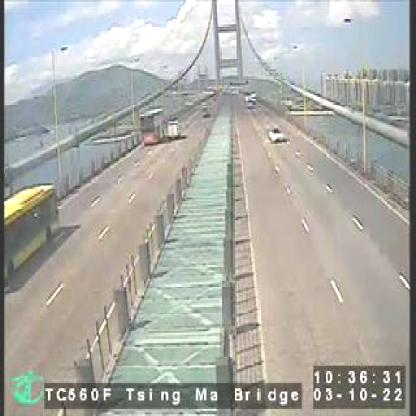Bus: (4, 185, 57, 281), (139, 108, 164, 142)
Car: (166, 120, 184, 137), (268, 125, 284, 140)
